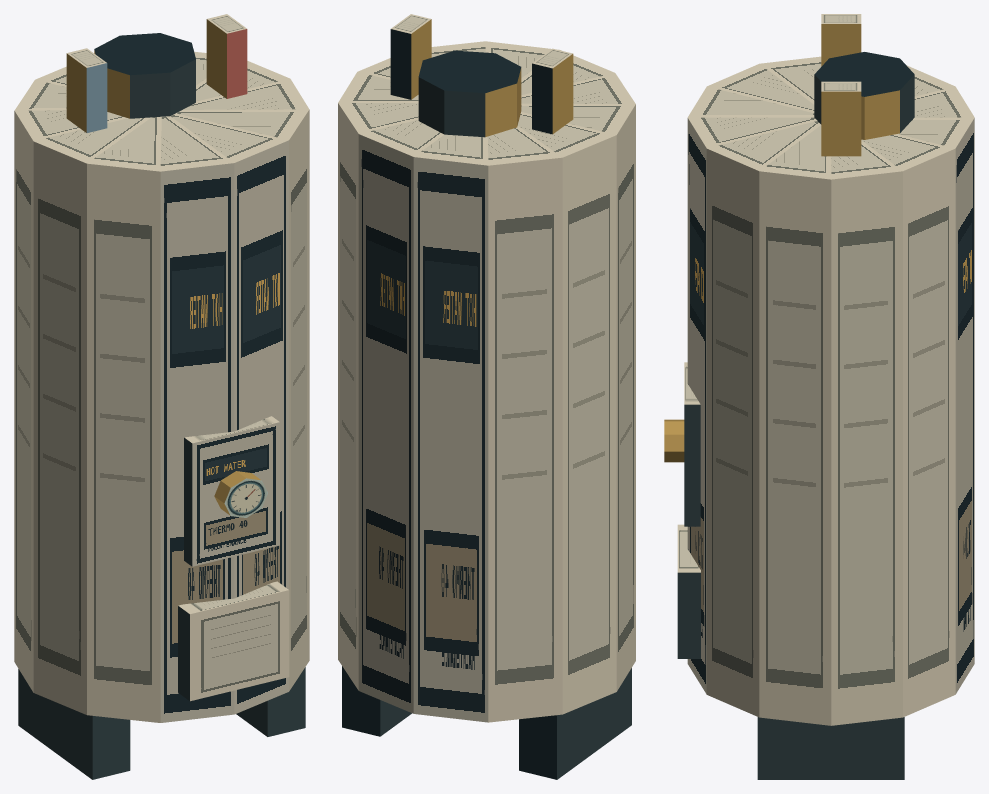
File: calentador_agua.glb
3 views of the same model, side by side, from view 1: azimuth 30°, elevation 25°; view 2: azimuth 150°, elevation 25°; view 3: azimuth 270°, elevation 25° (orthographic).
Visible parts, largest first — view 1: ELECTRICO; view 2: ELECTRICO; view 3: ELECTRICO.
Part boxes in pixels (x1,y1,x2,y2): ELECTRICO: [14, 14, 309, 779]; ELECTRICO: [338, 14, 635, 779]; ELECTRICO: [664, 14, 974, 779].
Bounding box in the file's own units: 0.5364 × 1.36 × 0.5669.
Materials: 1 (1 with a texture image).
